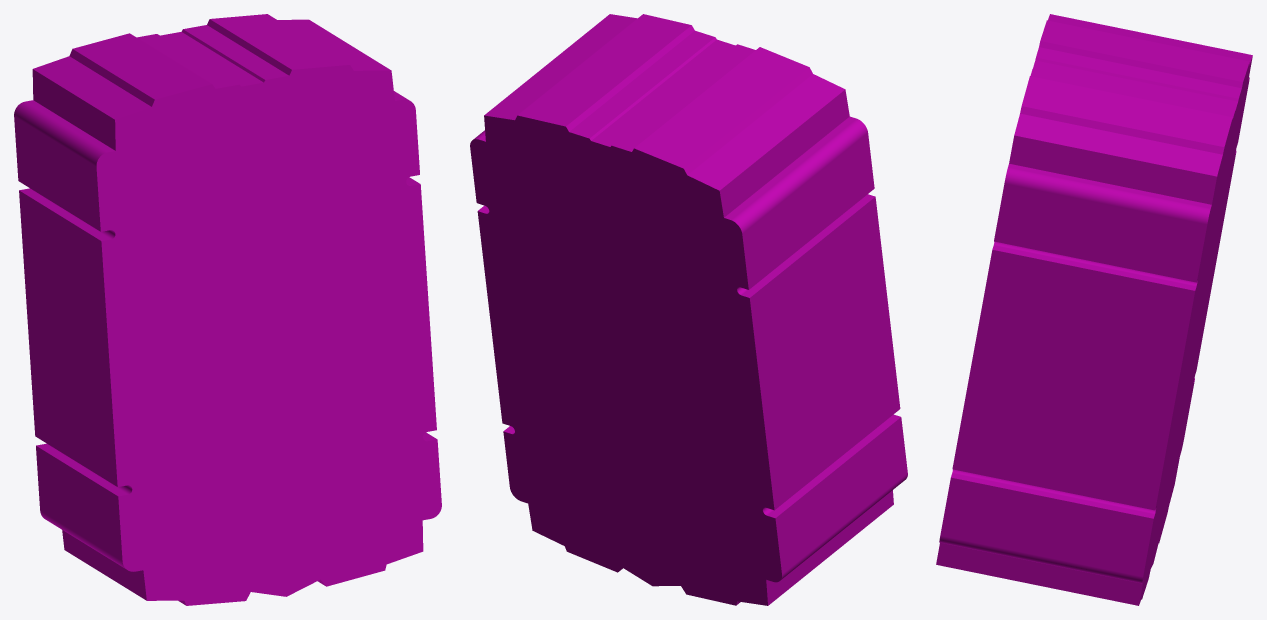
File: POWER ARCHITECTURE__ELEC BOARD COMPONENTS__COTEK SP-3000 (3000W) inverter.glb
3 views of the same model, side by side, from view 1: azimuth 30°, elevation 25°; view 2: azimuth 150°, elevation 25°; view 3: azimuth 270°, elevation 25° (orthographic). The views are drawn at different scales.
Parts seen in each view (by area): view 1: COTEK SP-3000 (3000W) inverter; view 2: COTEK SP-3000 (3000W) inverter; view 3: COTEK SP-3000 (3000W) inverter.
Part boxes in pixels (x1=…): COTEK SP-3000 (3000W) inverter: x1=14, y1=14, x2=441, y2=605; COTEK SP-3000 (3000W) inverter: x1=470, y1=14, x2=907, y2=605; COTEK SP-3000 (3000W) inverter: x1=936, y1=14, x2=1252, y2=605.
Bounding box in the file's own units: 0.2784 × 0.4198 × 0.2416.
